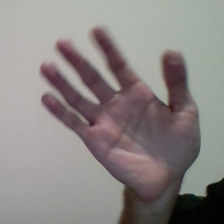left: (34, 17, 212, 199)
